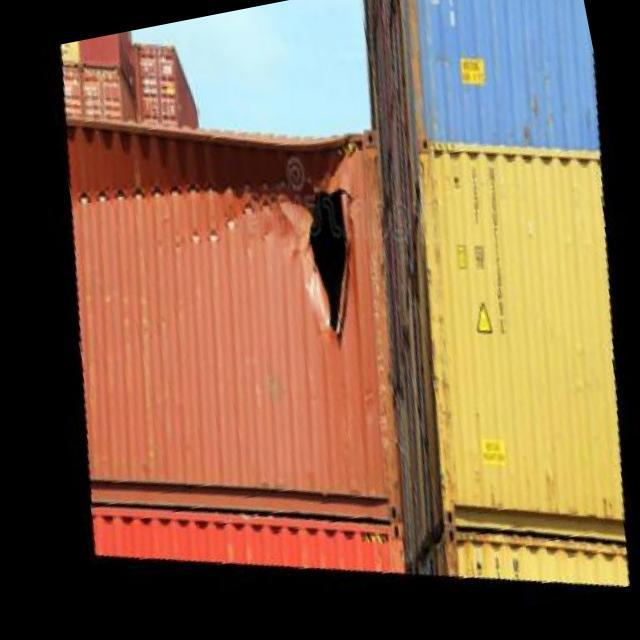hole: (301, 188, 367, 341)
